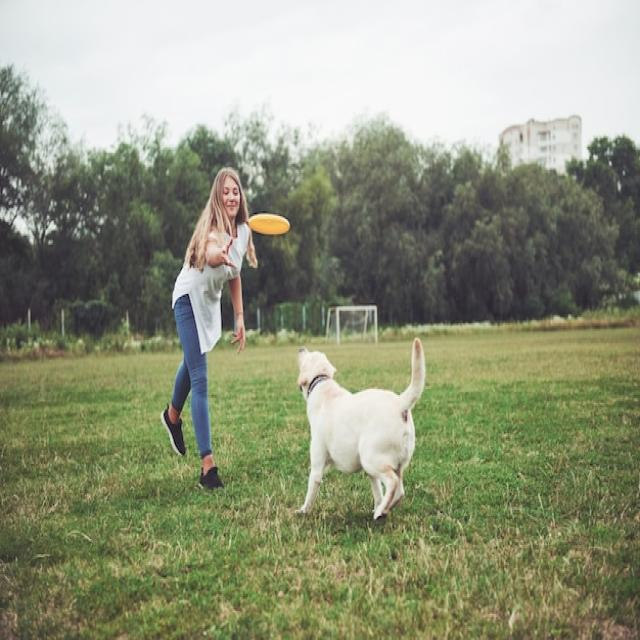Dog: (296, 338, 426, 520)
Person: (162, 168, 258, 492)
